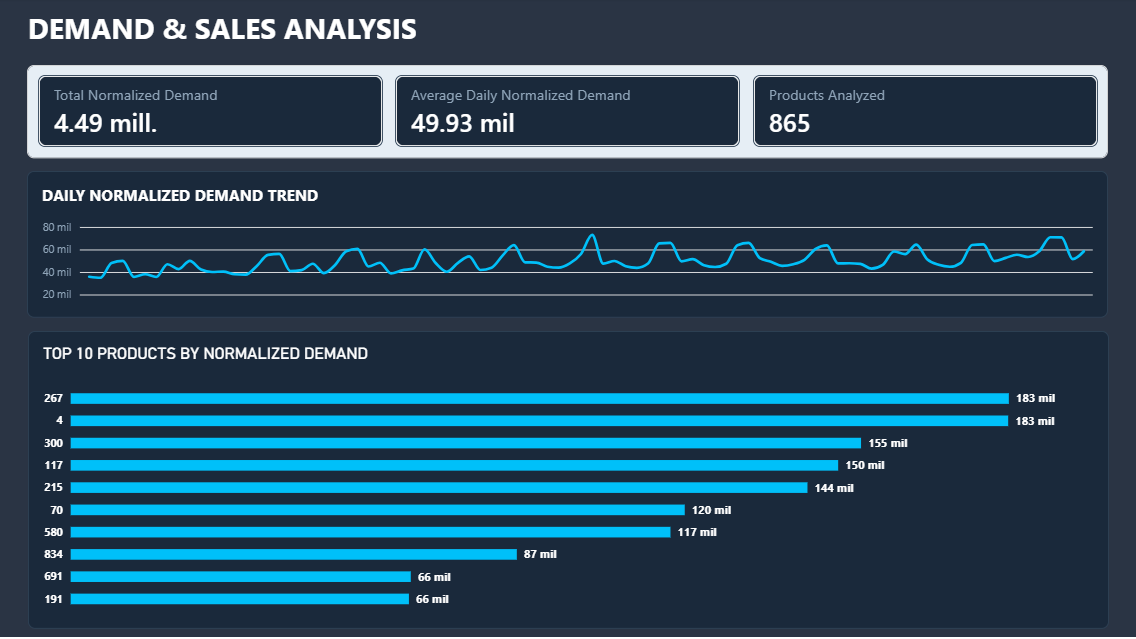

This screenshot's page, from the dashboard's own definition file:
{"tool":"powerbi","page":{"name":"Demand & Sales Analysis","canvas":[1280,720],"ordinal":1},"visuals":[{"type":"textbox","box":[32.5,11.7,1215.6,46.8],"z":0},{"type":"shape","box":[32,75,1216,105],"z":1000},{"type":"cardVisual","fields":{"Data":["Sum(14_daily_demand_summary.normalized_demand_total)"]},"box":[44,87,388,81],"z":2000},{"type":"cardVisual","fields":{"Data":["Avg(14_daily_demand_summary.normalized_demand_total)"]},"box":[446,87,388,81],"z":3000},{"type":"cardVisual","fields":{"Data":["Count(15_product_demand_summary.product_id)"]},"box":[848,87,388,81],"z":4000},{"type":"lineChart","title":"DAILY NORMALIZED DEMAND TREND","fields":{"Category":["14_daily_demand_summary.dt"],"Y":["Sum(14_daily_demand_summary.normalized_demand_total)"]},"box":[32,195,1216,165],"z":5000},{"type":"clusteredBarChart","title":"TOP 10 PRODUCTS BY NORMALIZED DEMAND","fields":{"Category":["15_product_demand_summary.product_id"],"Y":["Sum(15_product_demand_summary.normalized_demand_total)"]},"box":[32.5,375,1216,335],"z":6000}]}

Visuals, with their boxes in screenshot pixels (x1, y1, x2, y2), scaled from the page's 1280x720 canvas onto the 1136x639 screenshot:
textbox: (left=29, top=10, right=1108, bottom=52)
shape: (left=28, top=67, right=1108, bottom=160)
cardVisual - Sum(14_daily_demand_summary.normalized_demand_total): (left=39, top=77, right=383, bottom=149)
cardVisual - Avg(14_daily_demand_summary.normalized_demand_total): (left=396, top=77, right=740, bottom=149)
cardVisual - Count(15_product_demand_summary.product_id): (left=753, top=77, right=1097, bottom=149)
"DAILY NORMALIZED DEMAND TREND" lineChart: (left=28, top=173, right=1108, bottom=320)
"TOP 10 PRODUCTS BY NORMALIZED DEMAND" clusteredBarChart: (left=29, top=333, right=1108, bottom=630)
